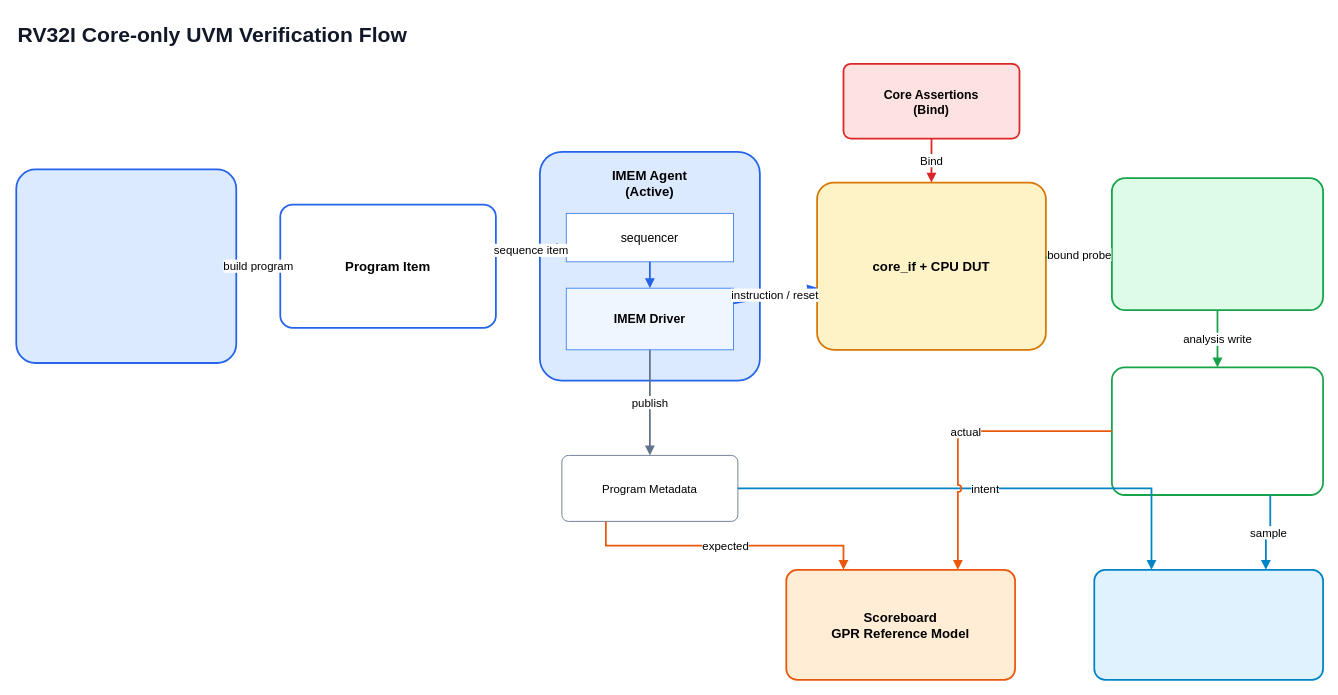
This 1338x695 diagram has some shape labels left out. The centre of each missing label's shape, as x and y in pixels:
"Commit Item" goes at (x=1217, y=430).
"Coverage Directed Gates + Random Combo" goes at (x=1208, y=624).
"Probe Monitor (Passive)" goes at (x=1217, y=244).
"UVM Tests Directed / Random / XPROP / Illegal" goes at (x=126, y=265).
